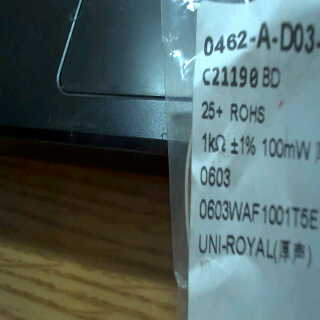1kR: (199, 128, 229, 155)
